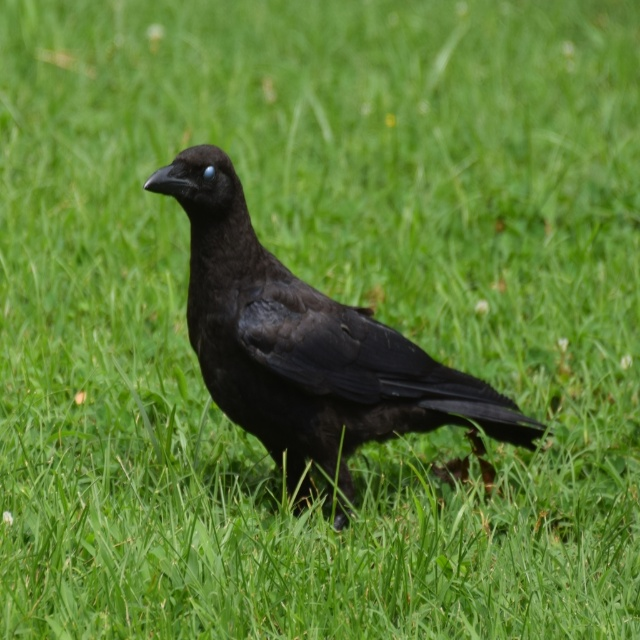Raven: (142, 144, 557, 533)
